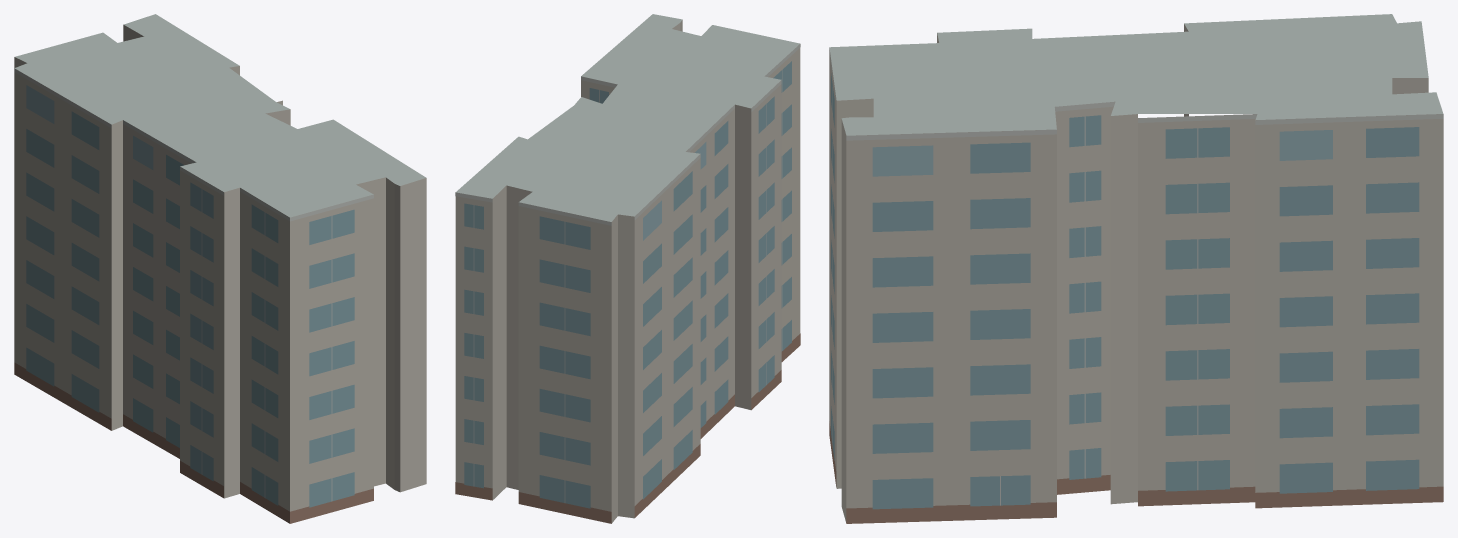
Rendered from survey-upis-32655282.glb.
3 views of the same model, side by side, from view 1: azimuth 30°, elevation 25°; view 2: azimuth 150°, elevation 25°; view 3: azimuth 270°, elevation 25° (orthographic). The views are drawn at different scales.
Parts seen in each view (by area): view 1: survey-upis-32655282.tmp; view 2: survey-upis-32655282.tmp; view 3: survey-upis-32655282.tmp.
Part boxes in pixels (bbox=[...]): survey-upis-32655282.tmp: bbox=[14, 14, 426, 523]; survey-upis-32655282.tmp: bbox=[455, 14, 800, 523]; survey-upis-32655282.tmp: bbox=[829, 14, 1443, 523].
Size of the model in its own units: 12.92 by 19.2 by 27.54.
